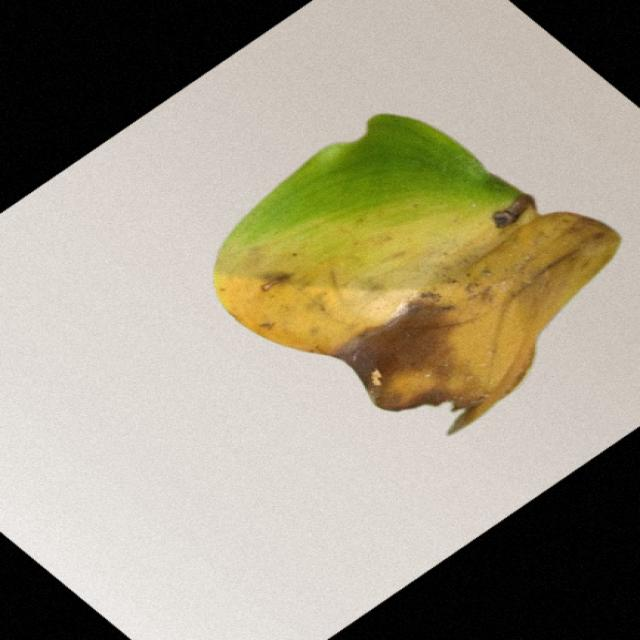daun berpenyakit kuning: (215, 114, 620, 433)
